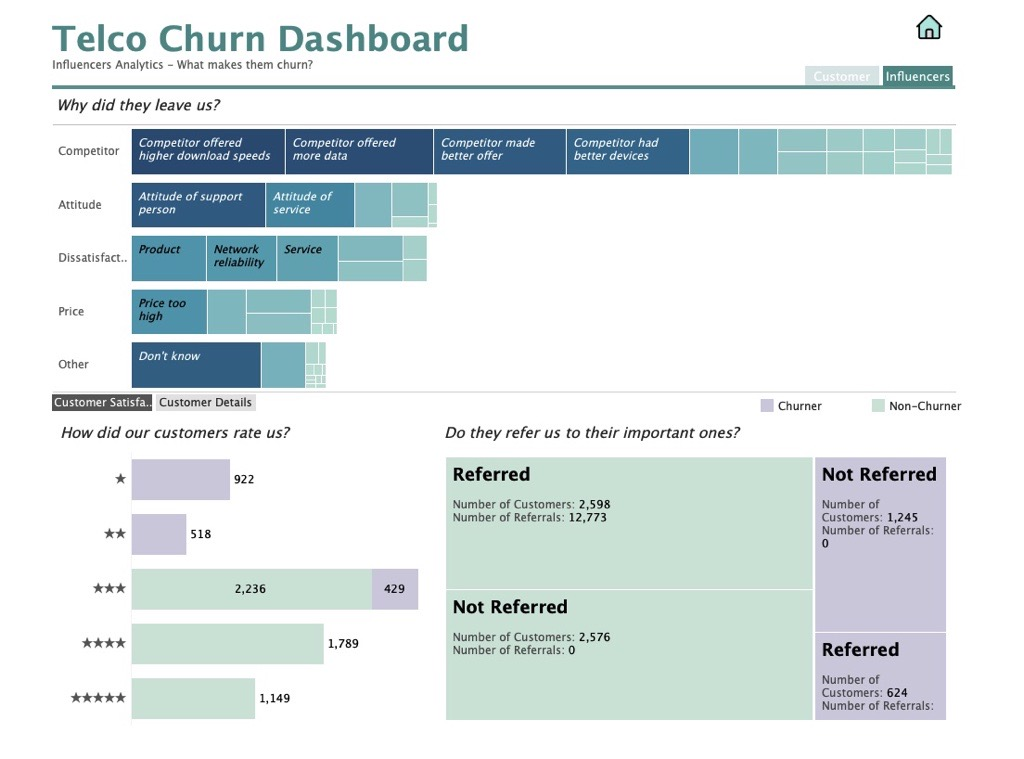

This screenshot's page, from the dashboard's own definition file:
{"tool":"tableau","page":{"name":"Satisfaction1","canvas":[1000,800],"ordinal":3},"visuals":[{"type":"worksheet","box":[0,0,1000,800]},{"type":"worksheet","param":"horz","box":[8,8,984,784]},{"type":"worksheet","box":[8,8,984,784]},{"type":"worksheet","box":[14,13,835,69]},{"type":"worksheet","box":[940,14,45,28]},{"type":"worksheet","param":"horz","box":[826,68,163,26]},{"type":"worksheet","box":[826,68,83.5,26]},{"type":"worksheet","box":[826,68,82,26]},{"type":"worksheet","box":[909.5,68,79.5,26]},{"type":"worksheet","box":[16,91,974,4]},{"type":"worksheet","title":"Reason","mark":"Automatic","rows":["Churn.Category"],"box":[17,99,974,323]},{"type":"worksheet","param":"horz","box":[124,421,112,22]},{"type":"worksheet","box":[124,421,112,22]},{"type":"worksheet","param":"horz","box":[14,422,224,22]},{"type":"worksheet","box":[14,422,112,22]},{"type":"worksheet","box":[126,422,112,22]},{"type":"worksheet","param":"horz","box":[17,448,972,337]},{"type":"worksheet","title":"Satisfaction","mark":"Automatic","rows":["Satisfaction.Score"],"cols":["Calculation_1358679738787606533"],"box":[17,448,414,337]},{"type":"worksheet","title":"Referral","mark":"Automatic","box":[431,448,558,337]}]}

Visuals, with their boxes on the page's 1000x800 design canvas (x1, y1, x2, y2). These are canvas units, not pixel positions in the 1024x759 screenshot, which may show the page scaled, cropped or inside an application window:
worksheet: (0, 0, 1000, 800)
worksheet: (8, 8, 992, 792)
worksheet: (8, 8, 992, 792)
worksheet: (14, 13, 849, 82)
worksheet: (940, 14, 985, 42)
worksheet: (826, 68, 989, 94)
worksheet: (826, 68, 910, 94)
worksheet: (826, 68, 908, 94)
worksheet: (910, 68, 989, 94)
worksheet: (16, 91, 990, 95)
"Reason" worksheet: (17, 99, 991, 422)
worksheet: (124, 421, 236, 443)
worksheet: (124, 421, 236, 443)
worksheet: (14, 422, 238, 444)
worksheet: (14, 422, 126, 444)
worksheet: (126, 422, 238, 444)
worksheet: (17, 448, 989, 785)
"Satisfaction" worksheet: (17, 448, 431, 785)
"Referral" worksheet: (431, 448, 989, 785)
